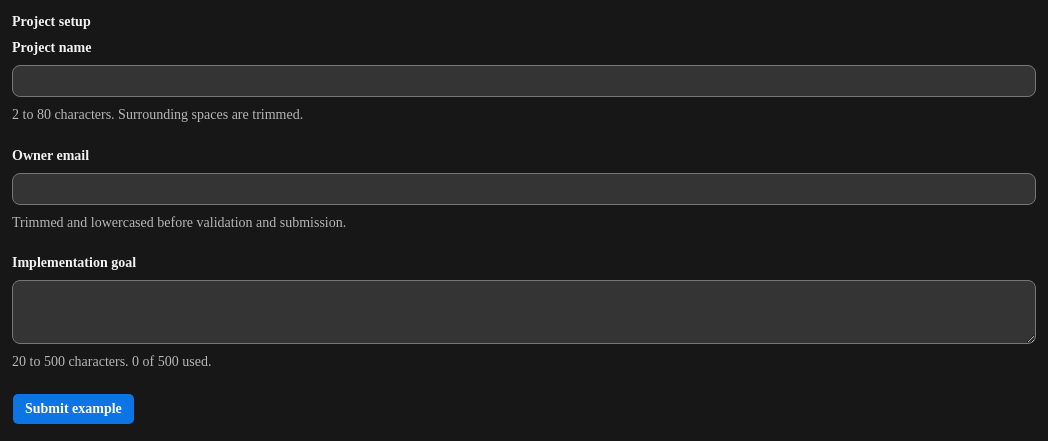
Test: ReferenceForm — submission › announces pending state, disables the action, and prevents a duplicate submit
Type "Atlas" into the field labelled "Project name".
click(524, 81); type("Atlas")  # box x1=12 y1=65 x2=1036 y2=97
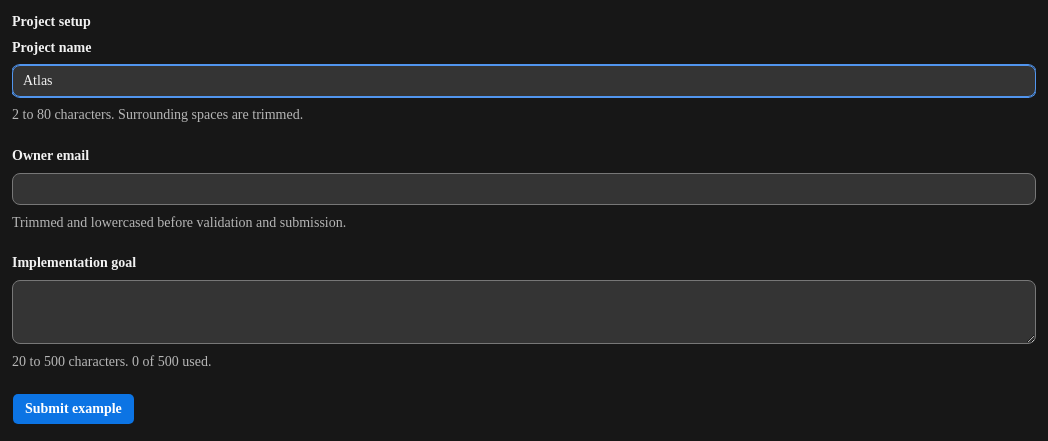
Type "owner@example.com" into the field labelled "Owner email".
click(524, 189); type("owner@example.com")  # box x1=12 y1=173 x2=1036 y2=205
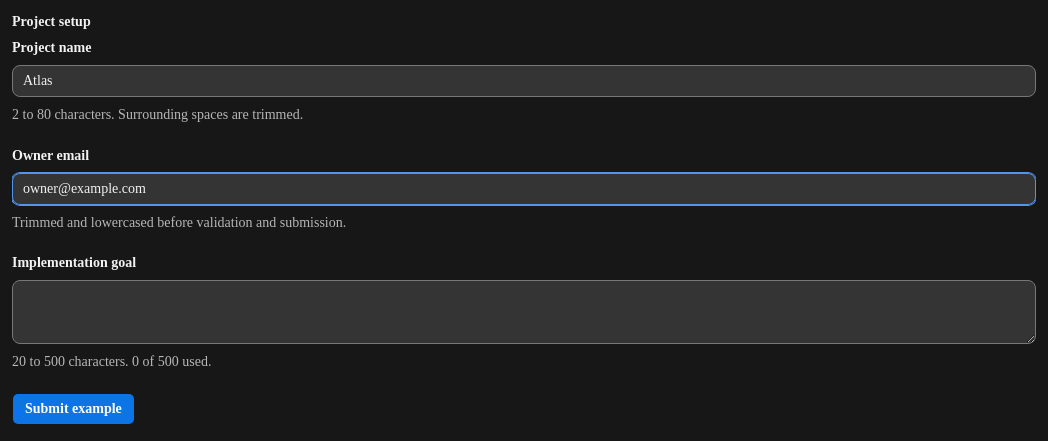
Type "Prove the reference wiring end to end." into the text box labelled "Implementation goal".
click(524, 312); type("Prove the reference wiring end to end.")  # box x1=12 y1=280 x2=1036 y2=344
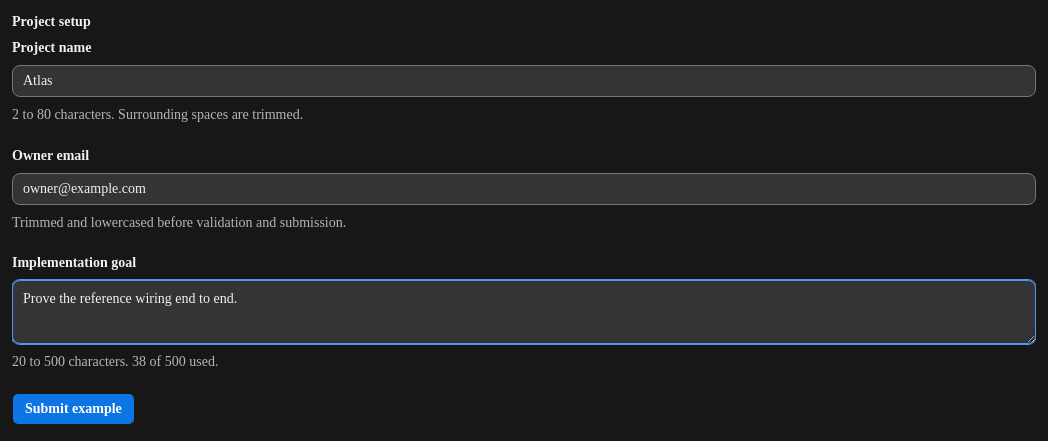
Click the button.
click(73, 409)  # box x1=12 y1=393 x2=135 y2=425
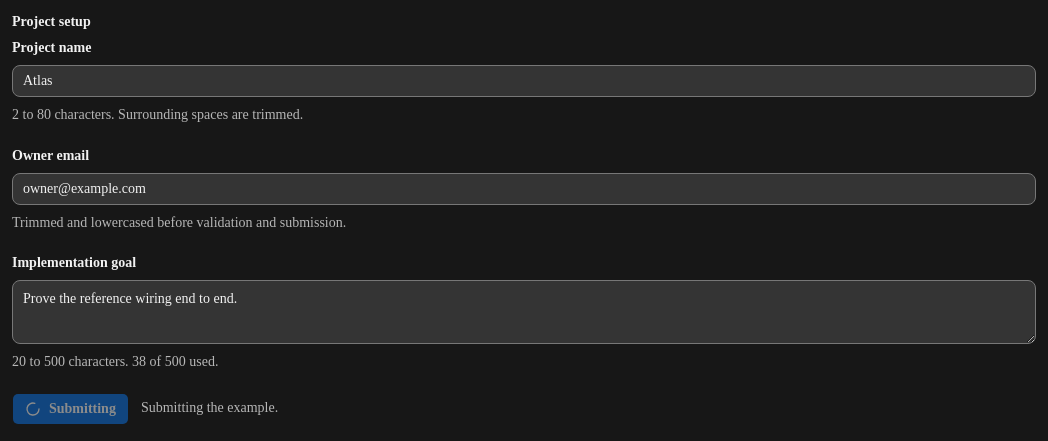
Expected: the button is disabled
Expected: the message "Submitting the example." is shown, x1=141 y1=398 x2=278 y2=419
Click the button.
click(70, 409)  # box x1=12 y1=393 x2=129 y2=425
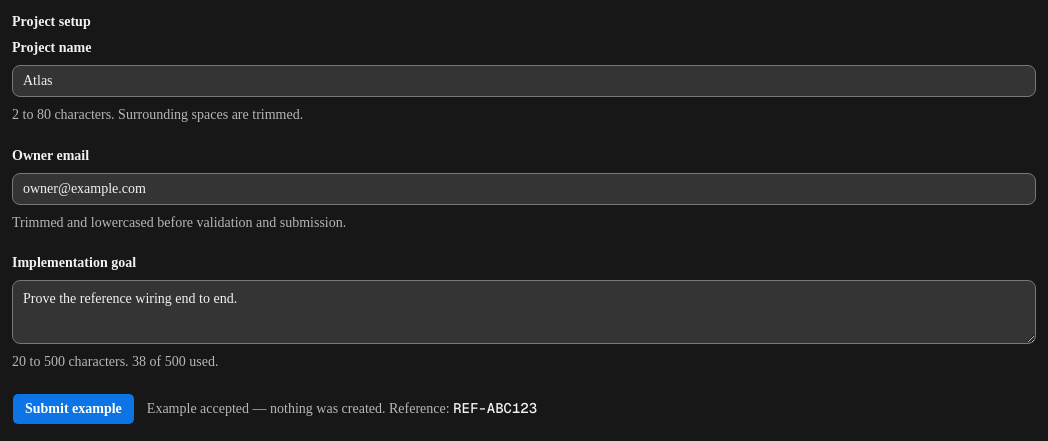
Expected: the button is enabled, x1=12 y1=393 x2=135 y2=425
